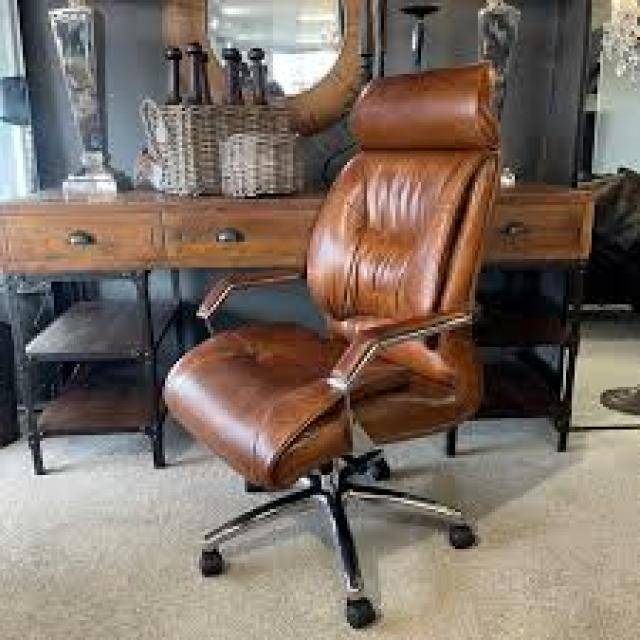chair: (128, 37, 560, 640)
